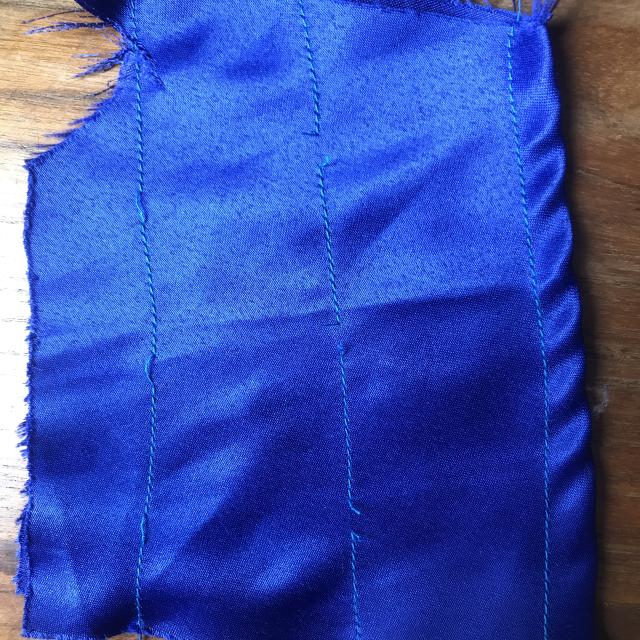broken: (292, 116, 367, 185), (332, 484, 382, 556), (320, 304, 370, 368)
good: (540, 456, 563, 584)
skip: (116, 170, 176, 242), (130, 339, 178, 406), (124, 501, 162, 554)
